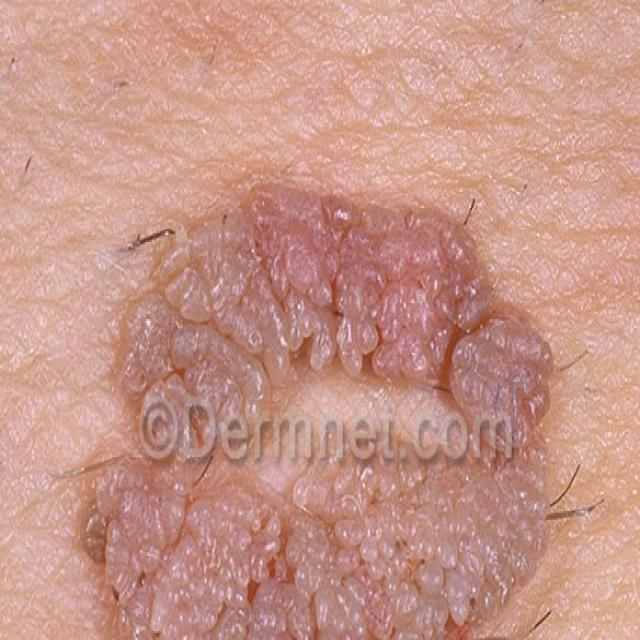Warts: (86, 154, 562, 640)
